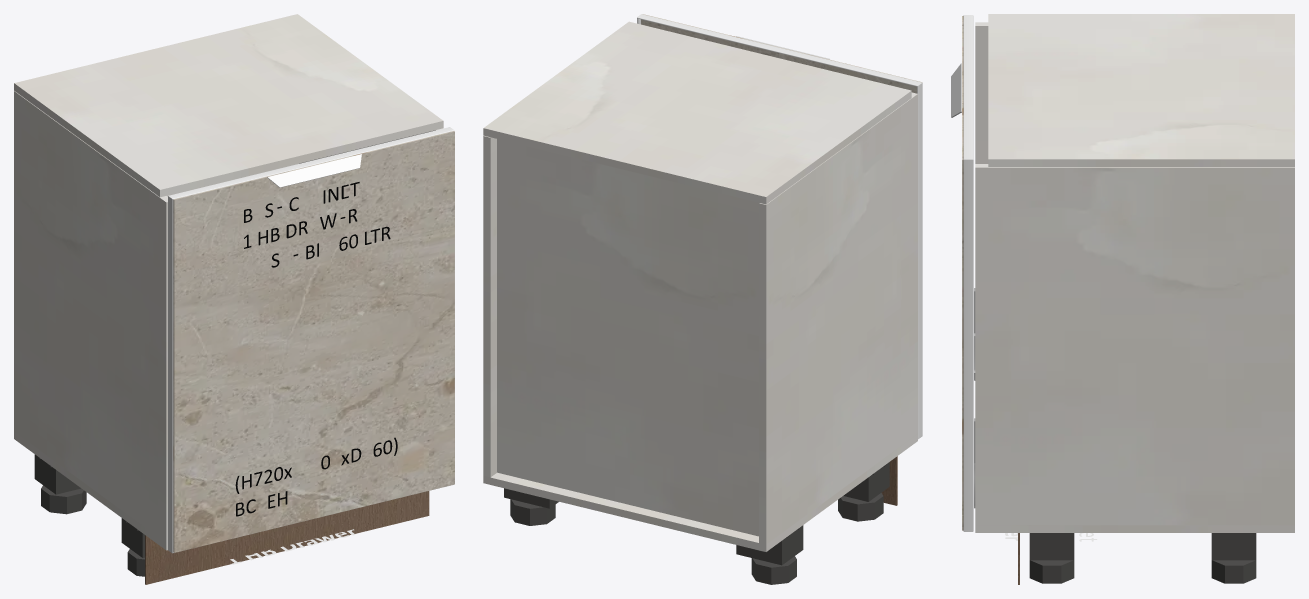
Rendered from BC1EHWB_EH (H720xW600xD560).glb.
3 views of the same model, side by side, from view 1: azimuth 30°, elevation 25°; view 2: azimuth 150°, elevation 25°; view 3: azimuth 270°, elevation 25° (orthographic). The views are drawn at different scales.
Size of what is drawn, in the model's own units: 0.6 by 0.82 by 0.6.
Materials: 9 (4 with a texture image).
